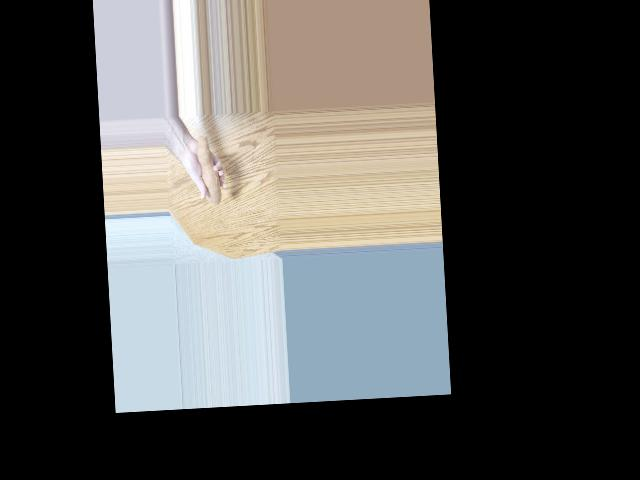sweet_potato: (189, 128, 223, 207)
